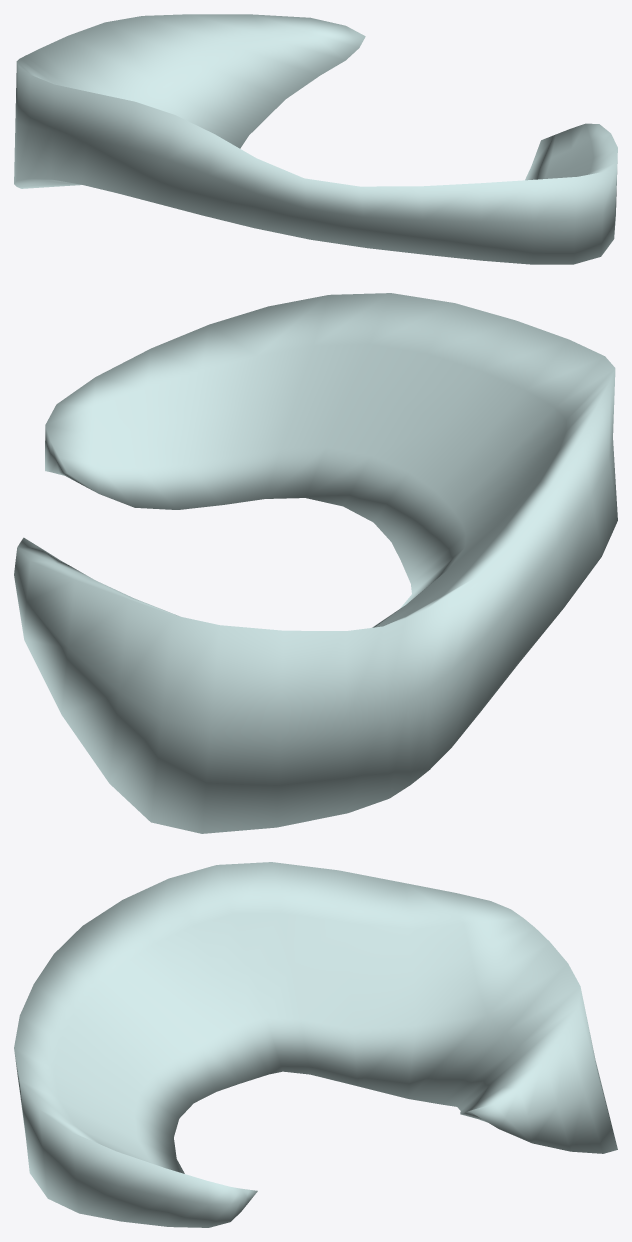
File: Lateral_meniscus.r_Generated_Mesh_From_X3D.049.glb
3 views of the same model, one above another, from view 1: azimuth 30°, elevation 25°; view 2: azimuth 150°, elevation 25°; view 3: azimuth 270°, elevation 25° (orthographic). The views are drawn at different scales.
Visible parts, largest first — view 1: Lateral_meniscus.r_Generated_Mesh_From_X3D.049; view 2: Lateral_meniscus.r_Generated_Mesh_From_X3D.049; view 3: Lateral_meniscus.r_Generated_Mesh_From_X3D.049.
Boxes of the visible parts, <box> form: Lateral_meniscus.r_Generated_Mesh_From_X3D.049: <box>14,14,617,264</box>; Lateral_meniscus.r_Generated_Mesh_From_X3D.049: <box>14,293,617,833</box>; Lateral_meniscus.r_Generated_Mesh_From_X3D.049: <box>14,862,617,1227</box>.
Size of the model in its own units: 0.0338 by 0.0153 by 0.0387.
